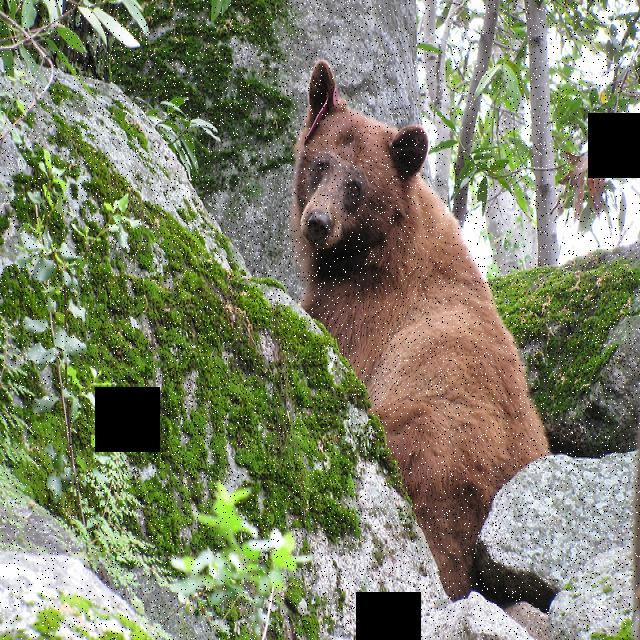Bear: (286, 55, 555, 589)
